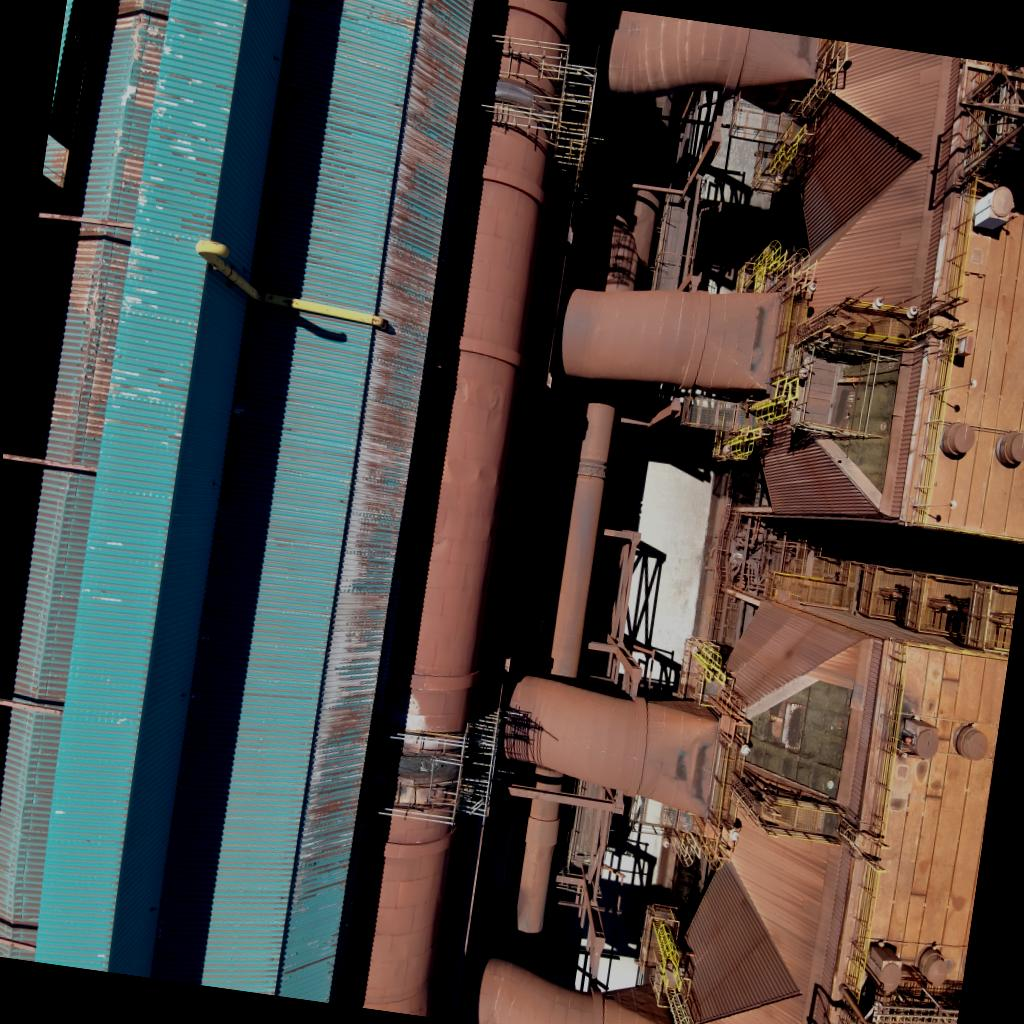Failures: (723, 665, 862, 799), (814, 318, 916, 499)
